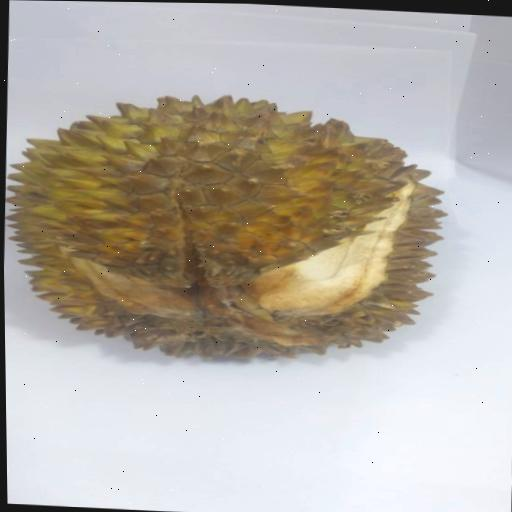rot: (1, 74, 459, 385)
